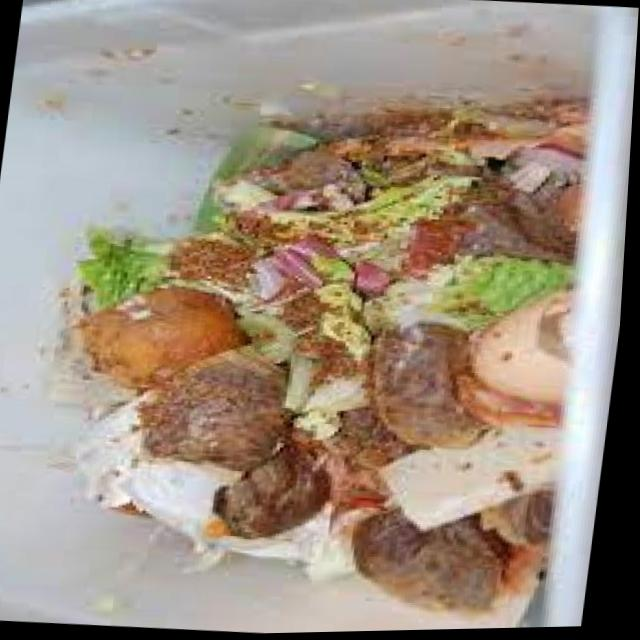Wet: (0, 34, 595, 627), (46, 182, 277, 399), (342, 291, 529, 483)
